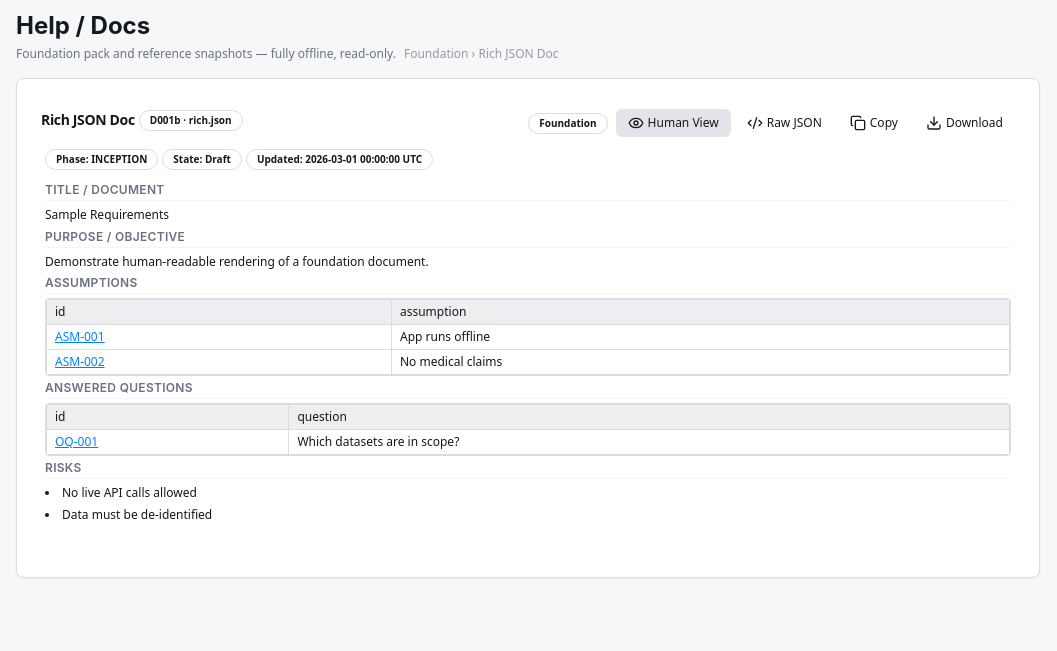
Test case: HelpDocs (TST-007) › Raw JSON toggle switches to raw pre block and back
Expected: the element with test id "human-view" is shown, [41,145,1015,528]
Click the button with test id "toggle-raw-json" at (784, 123), box [735,109,834,137]
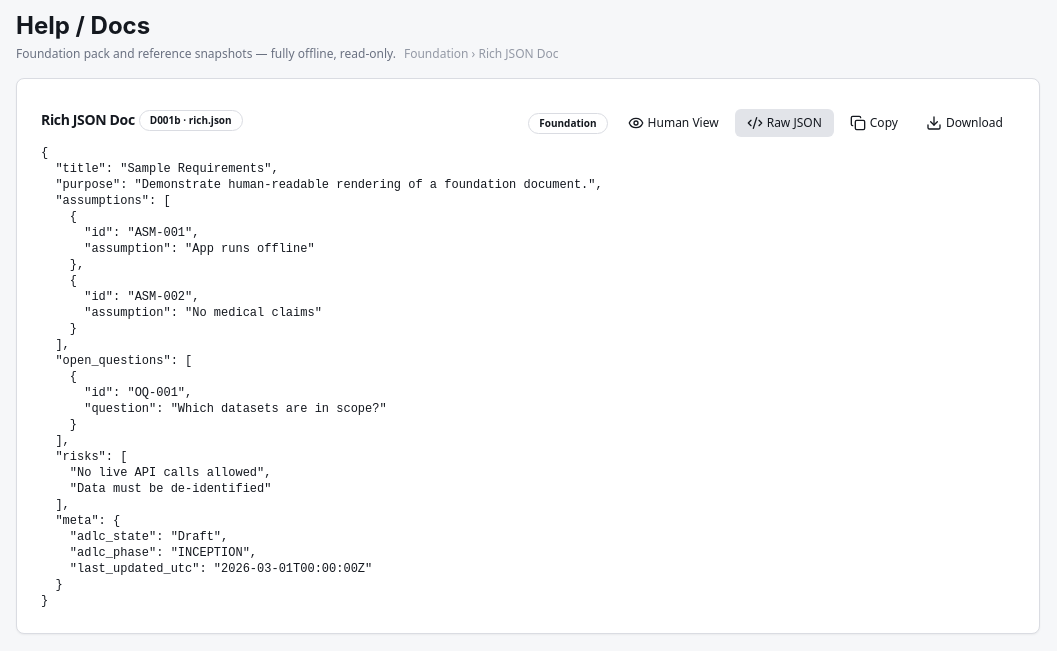
Result: the text with test id "raw-json" is shown at [41,146,603,608]
Result: the element with test id "human-view" is gone
Click the button with test id "toggle-human-view" at (673, 123), box [616,109,731,137]
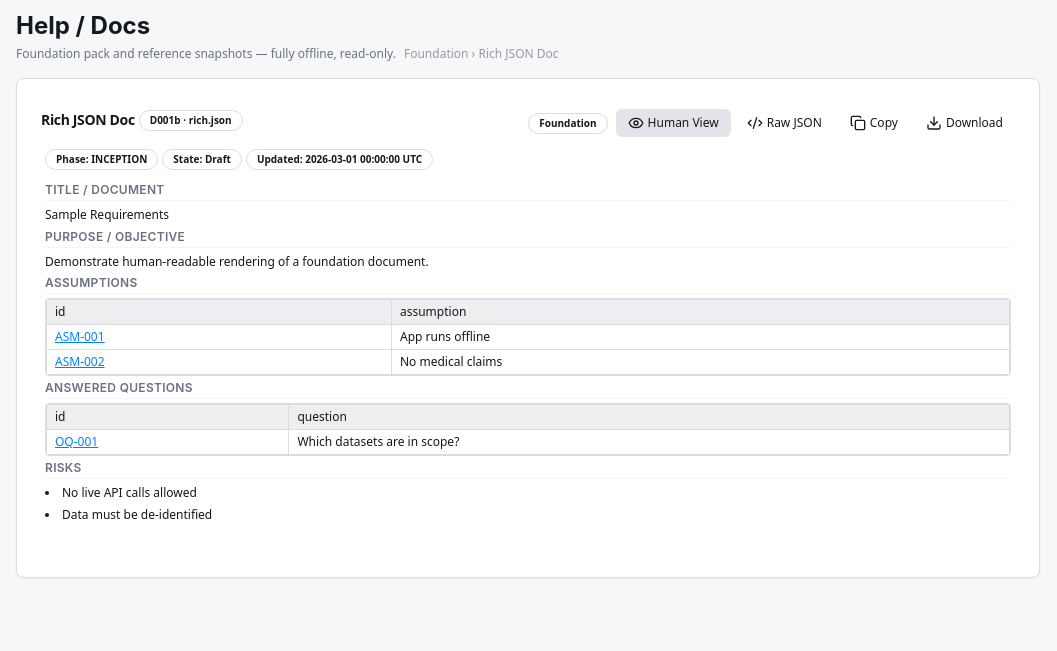
Result: the element with test id "human-view" is shown at [41,145,1015,528]
Result: the text with test id "raw-json" is gone
